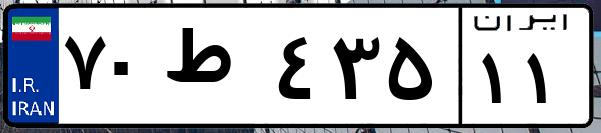0: (110, 28, 158, 98)
1: (475, 38, 525, 113), (525, 38, 570, 115)
3: (330, 28, 385, 110)
4: (270, 28, 330, 110)
5: (385, 28, 445, 110)
7: (57, 26, 110, 100)
ط: (158, 20, 270, 120)
